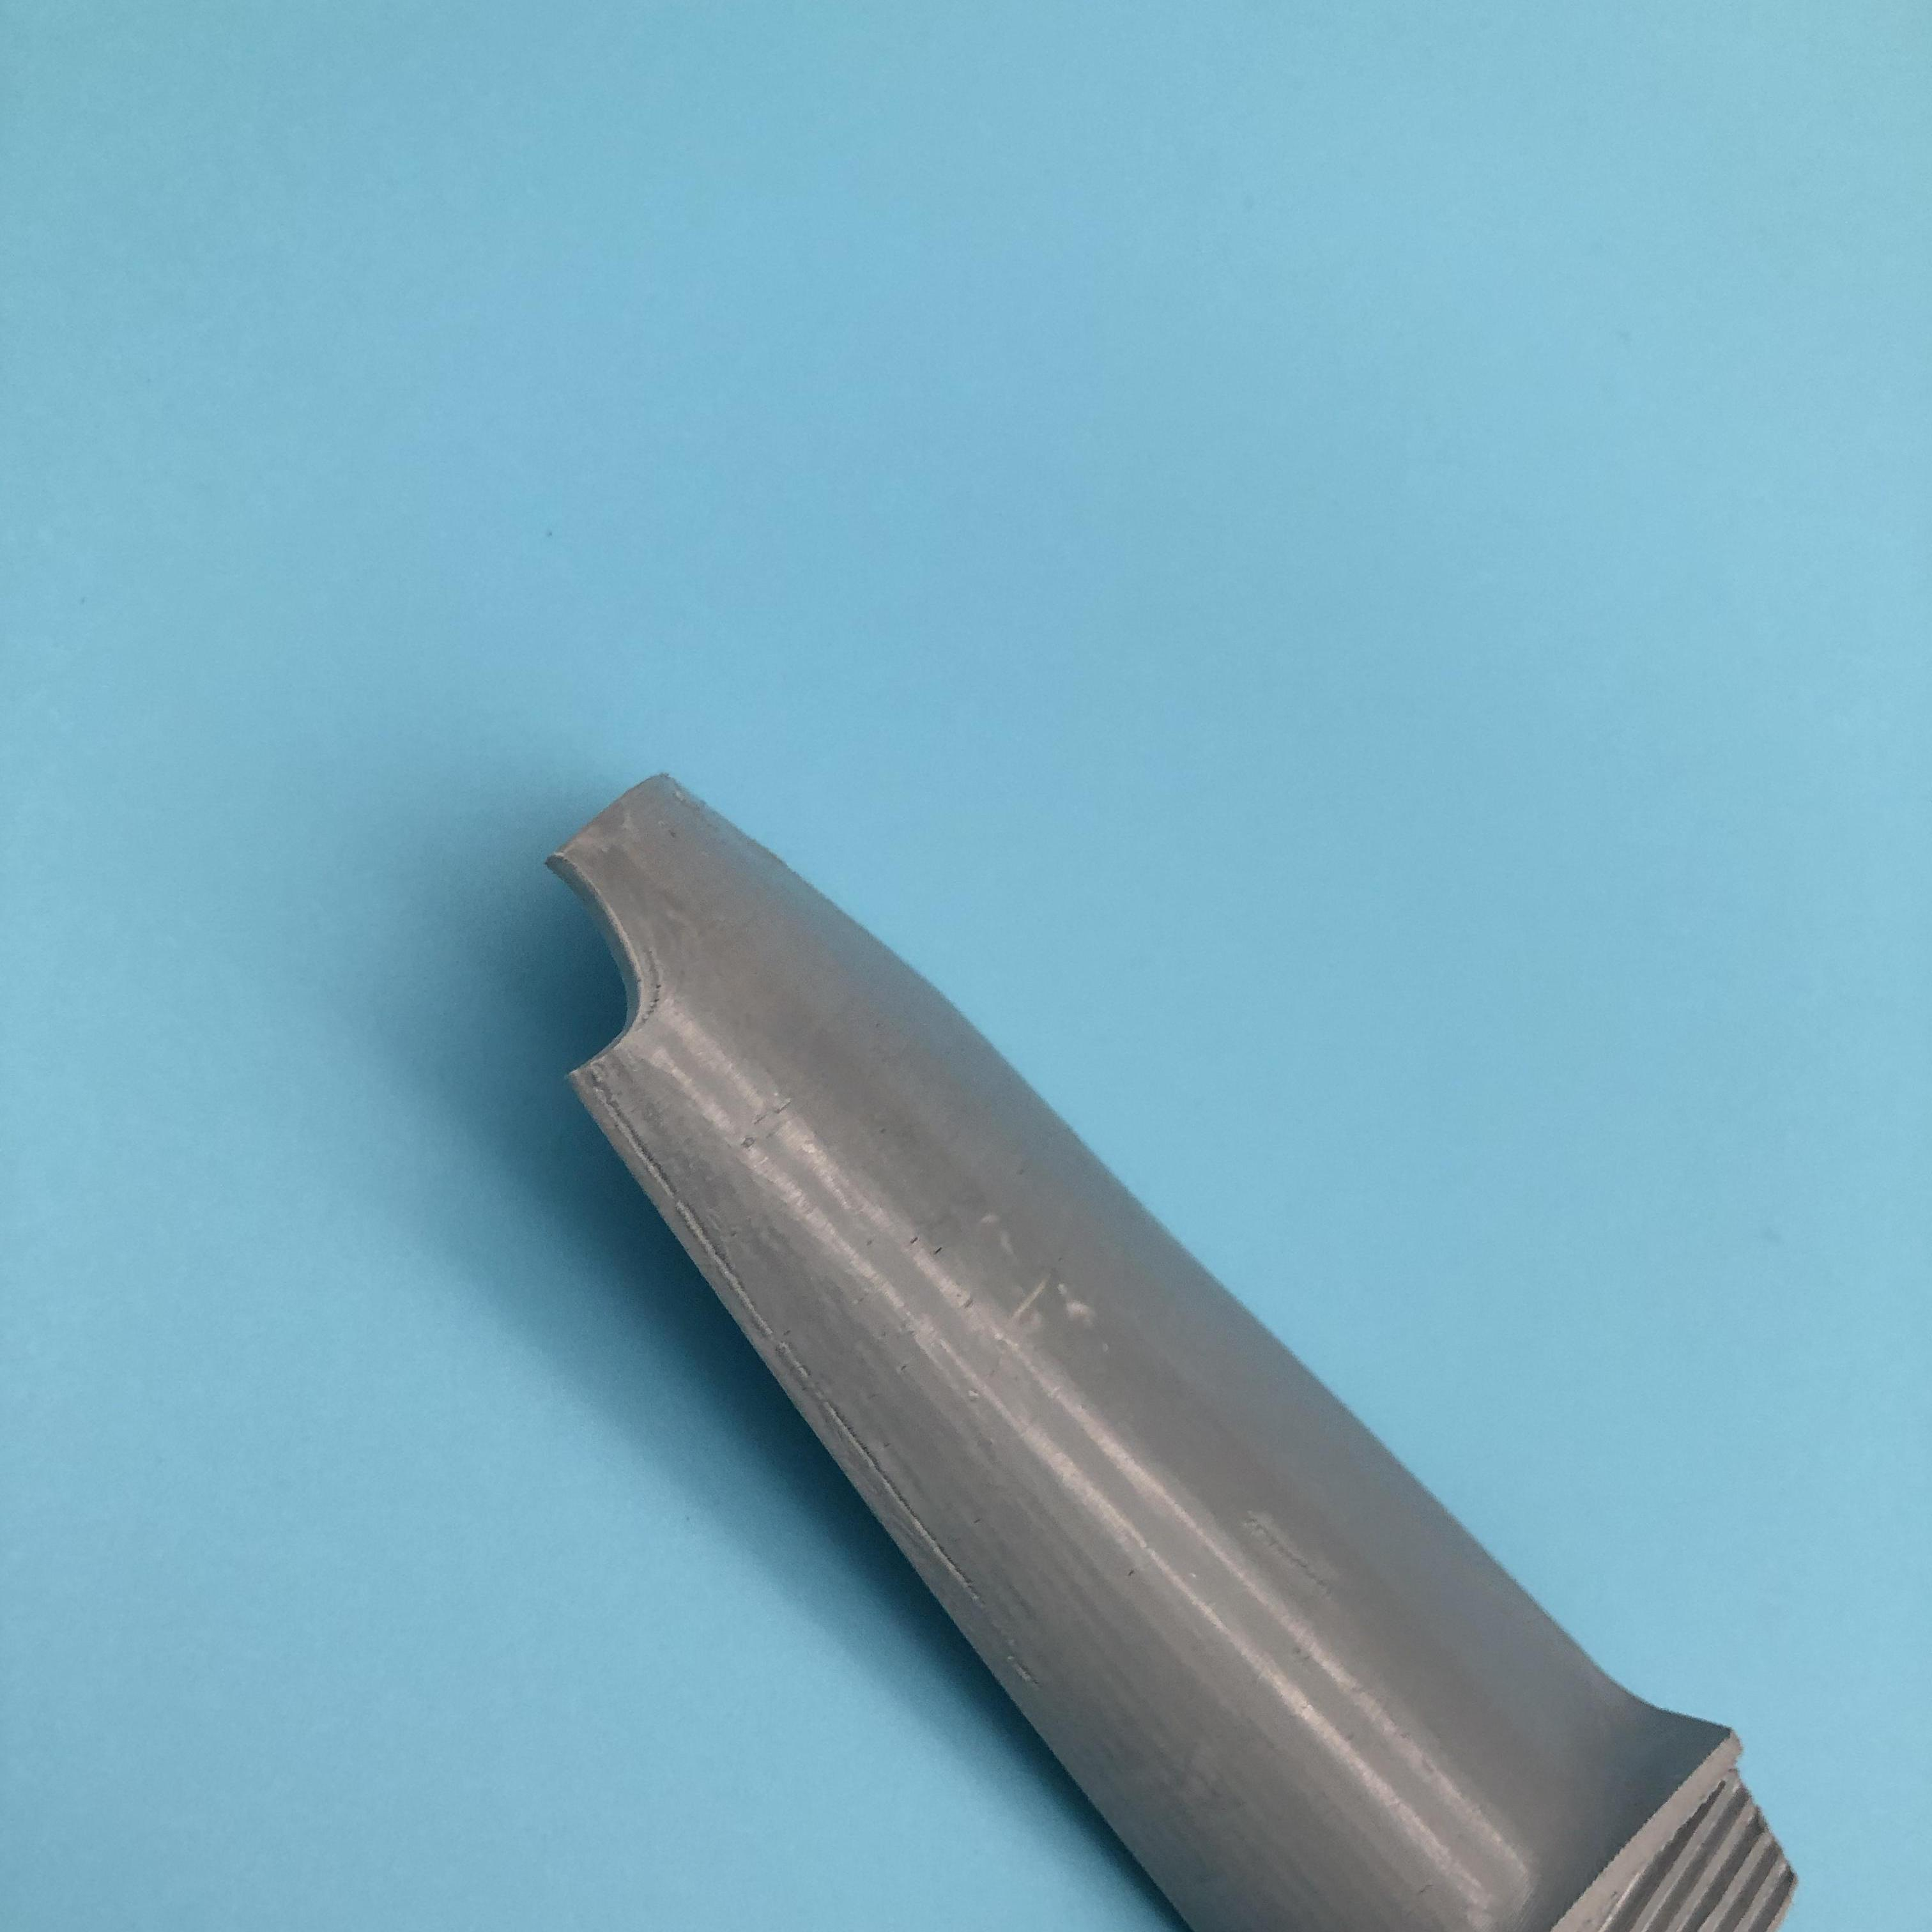fracture: (540, 858, 695, 1093)
